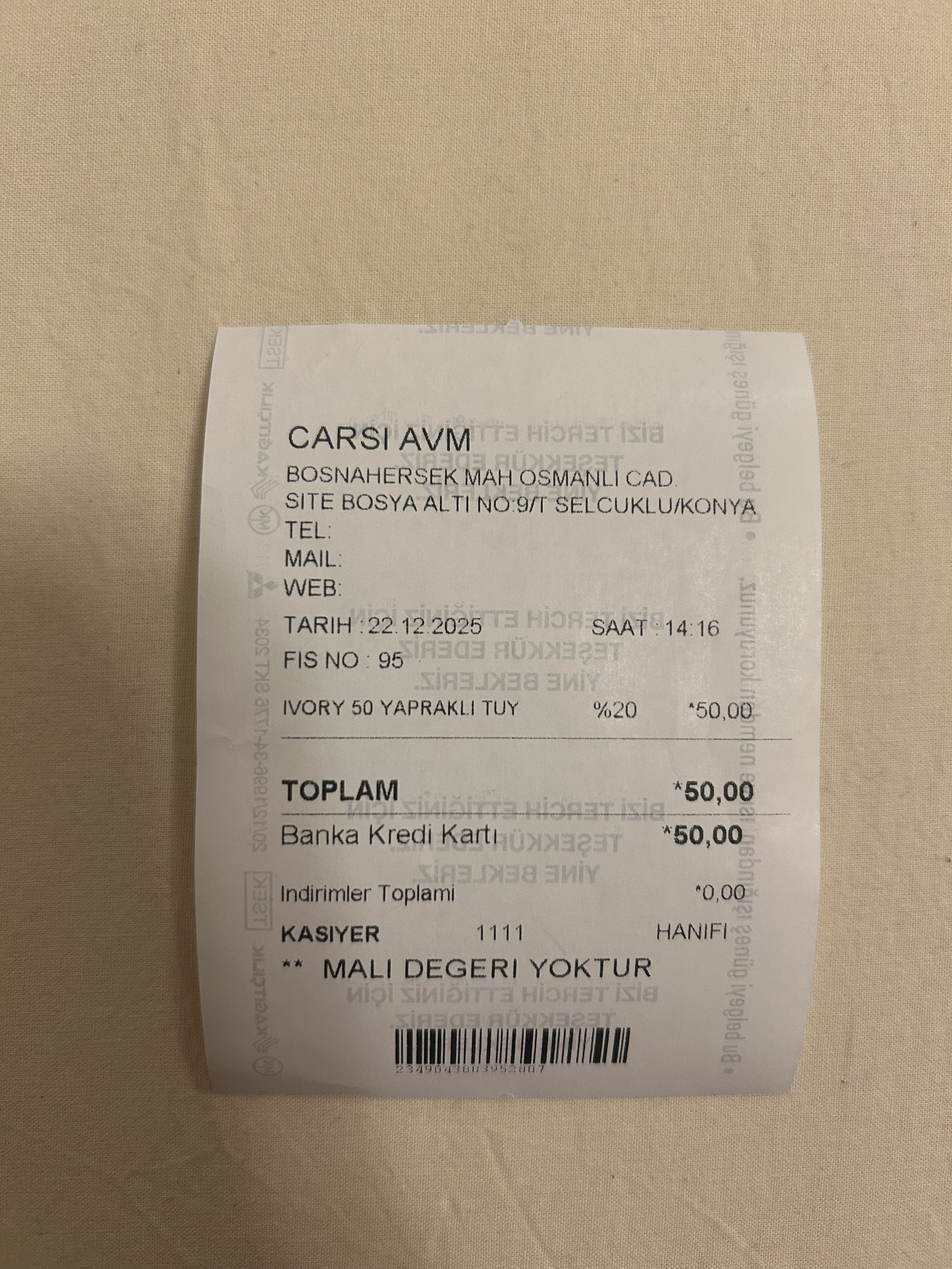date: (363, 609, 486, 643)
price: (683, 770, 768, 809)
workplace: (277, 412, 765, 524)
